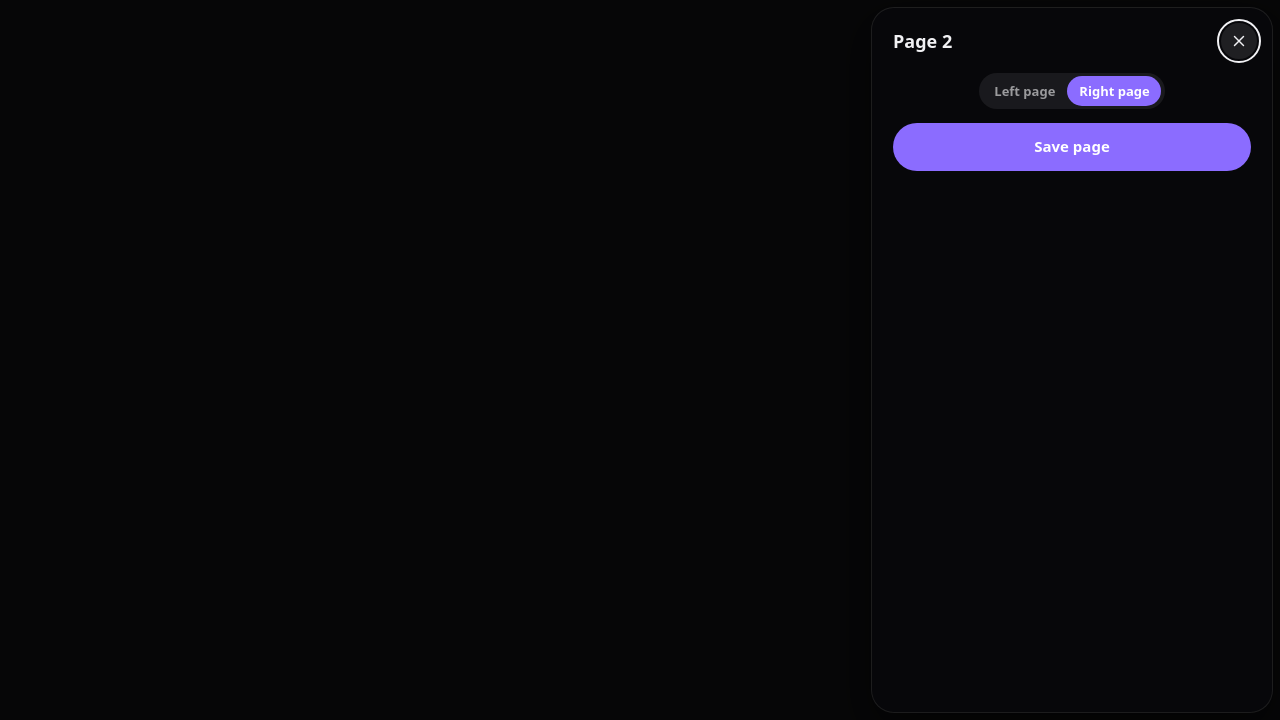
Test: shows a readable error when saving fails
What coordinates should you click on to do the following:
click the button "Save page"
I would click on:
 (1072, 147)
Its box is [893,123,1251,171].
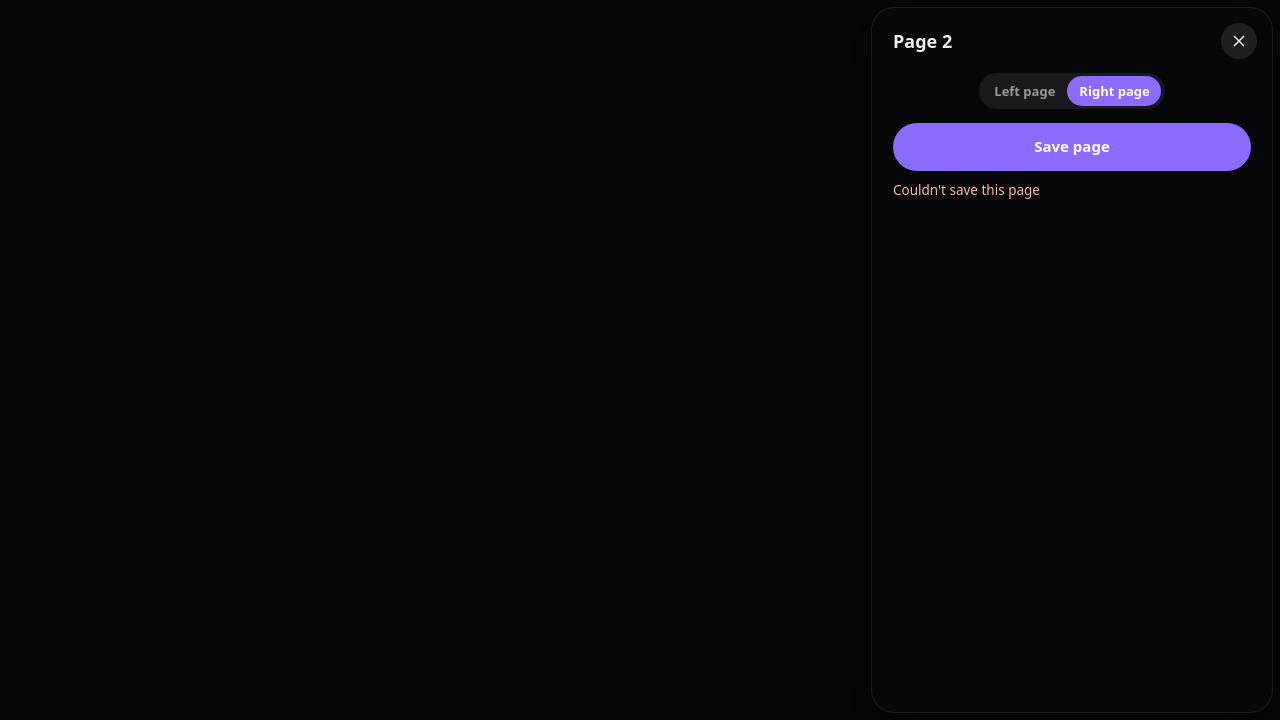
Check: the text "Couldn't save this page" is shown, box [893,181,1040,199]
